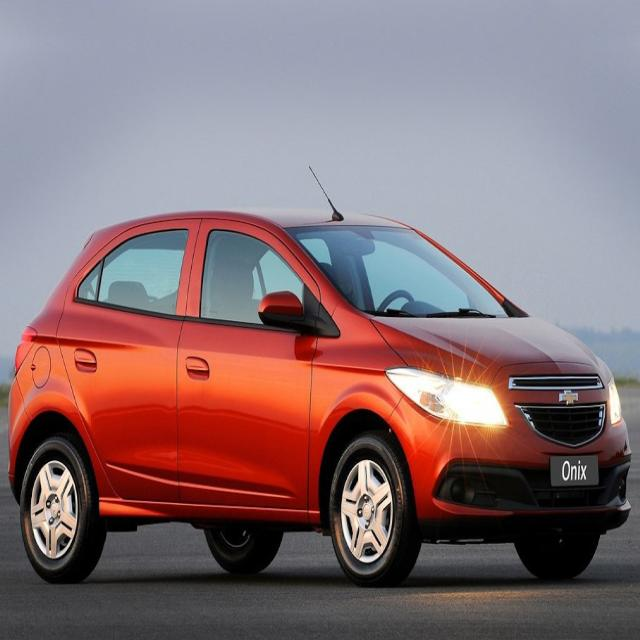back_right_side_light: (12, 324, 38, 374)
door: (60, 220, 204, 516)
front_bumper: (390, 416, 633, 534)
front_glass: (285, 223, 515, 322)
front_right_side_door: (174, 212, 322, 524)
front_right_side_light: (383, 365, 511, 429)
front_right_side_mirror: (257, 290, 303, 332)
wheel: (19, 438, 104, 584), (329, 438, 415, 582), (200, 528, 286, 582), (516, 532, 603, 582)
